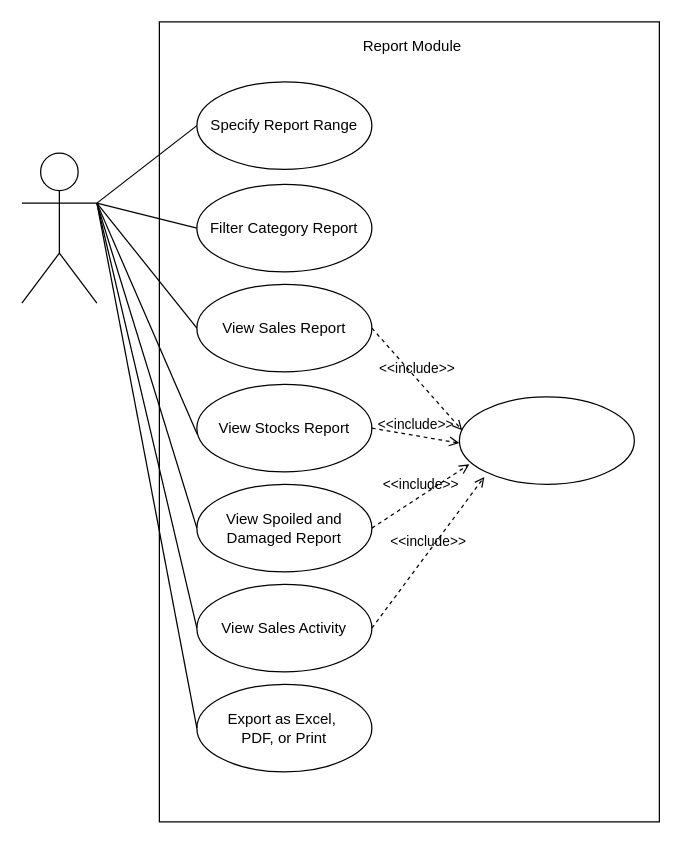
This 681x844 diagram has some shape labels left out. Here are the shapes that lost their labels. From the top down, the centre of each, then its label:
(59,227): Admin
(546,440): Generate Report Summary
